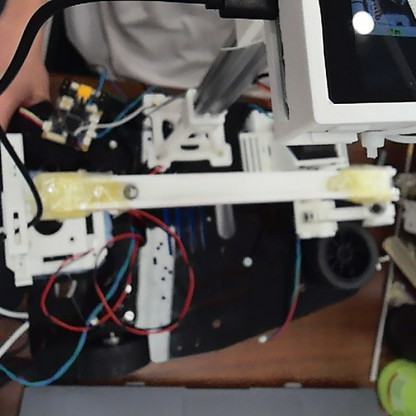ironball: (122, 180, 141, 201)
